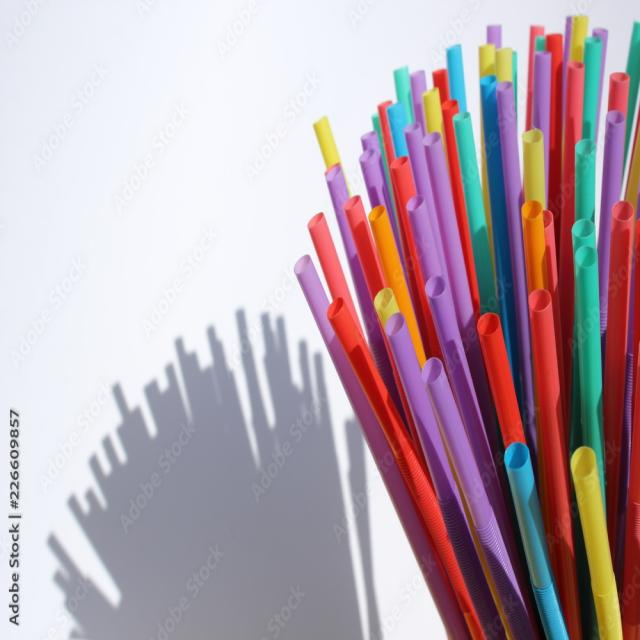plastic: (546, 410, 640, 640)
